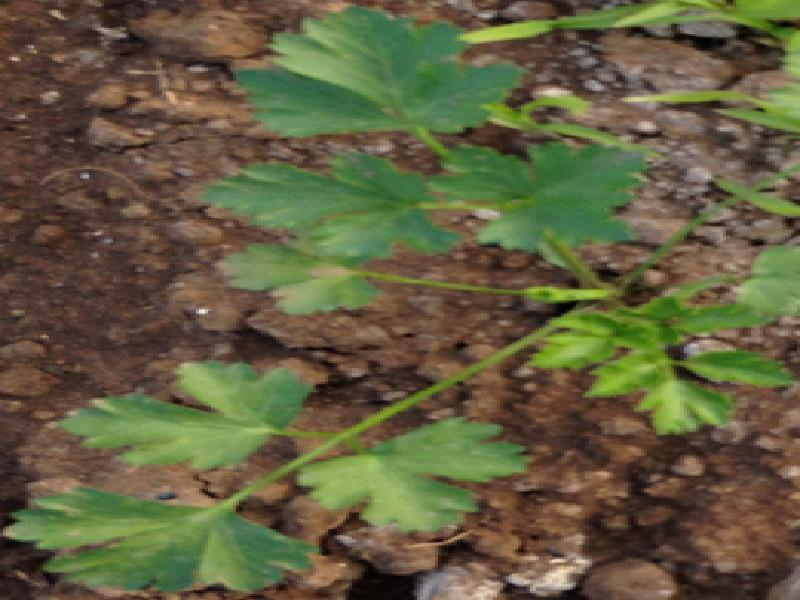radish: (2, 6, 791, 593)
